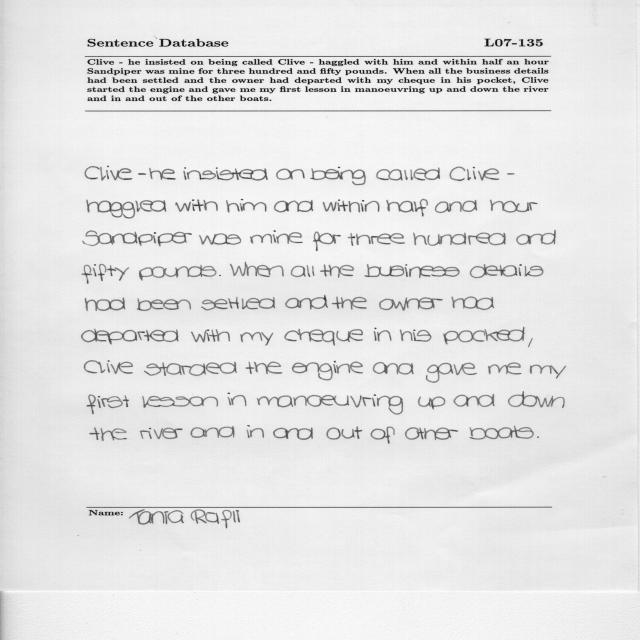word: (257, 395, 403, 415), (83, 231, 192, 247), (87, 200, 166, 219), (443, 327, 525, 345), (82, 329, 179, 344), (292, 361, 363, 381), (365, 264, 460, 278), (144, 362, 237, 376), (284, 329, 363, 345), (413, 233, 506, 246), (183, 167, 268, 181), (139, 265, 216, 280), (470, 264, 543, 278), (426, 363, 477, 383), (310, 167, 366, 185), (508, 391, 565, 408), (201, 297, 275, 310), (82, 264, 129, 284), (142, 396, 218, 408), (376, 167, 440, 181), (379, 297, 443, 311), (470, 426, 534, 440), (230, 262, 284, 277), (87, 395, 129, 414), (386, 199, 428, 217), (250, 230, 303, 244), (323, 200, 380, 213), (348, 233, 405, 246), (85, 166, 132, 181), (137, 298, 191, 311), (450, 167, 500, 181), (405, 427, 458, 440), (285, 295, 328, 310), (84, 361, 133, 374), (490, 200, 538, 213), (516, 230, 556, 245), (226, 199, 267, 213), (86, 297, 126, 311), (175, 199, 218, 212), (435, 200, 477, 213), (452, 297, 494, 310), (313, 231, 340, 251), (454, 394, 495, 407), (191, 426, 235, 438), (273, 427, 313, 440), (90, 427, 127, 441), (191, 330, 230, 343), (199, 233, 241, 245), (530, 365, 566, 379), (373, 362, 414, 374), (320, 264, 354, 278), (274, 200, 313, 212), (240, 332, 273, 346), (140, 428, 182, 439), (332, 297, 367, 310), (246, 362, 282, 374), (488, 362, 521, 375), (370, 427, 395, 444), (400, 329, 432, 342), (418, 397, 445, 410), (149, 168, 176, 180), (276, 169, 305, 180), (291, 265, 315, 277), (342, 426, 363, 439), (228, 393, 247, 406), (374, 328, 391, 342), (247, 426, 264, 438), (326, 427, 341, 440), (528, 338, 533, 347), (138, 173, 146, 175), (507, 173, 515, 175), (537, 436, 539, 438), (219, 275, 221, 276)
